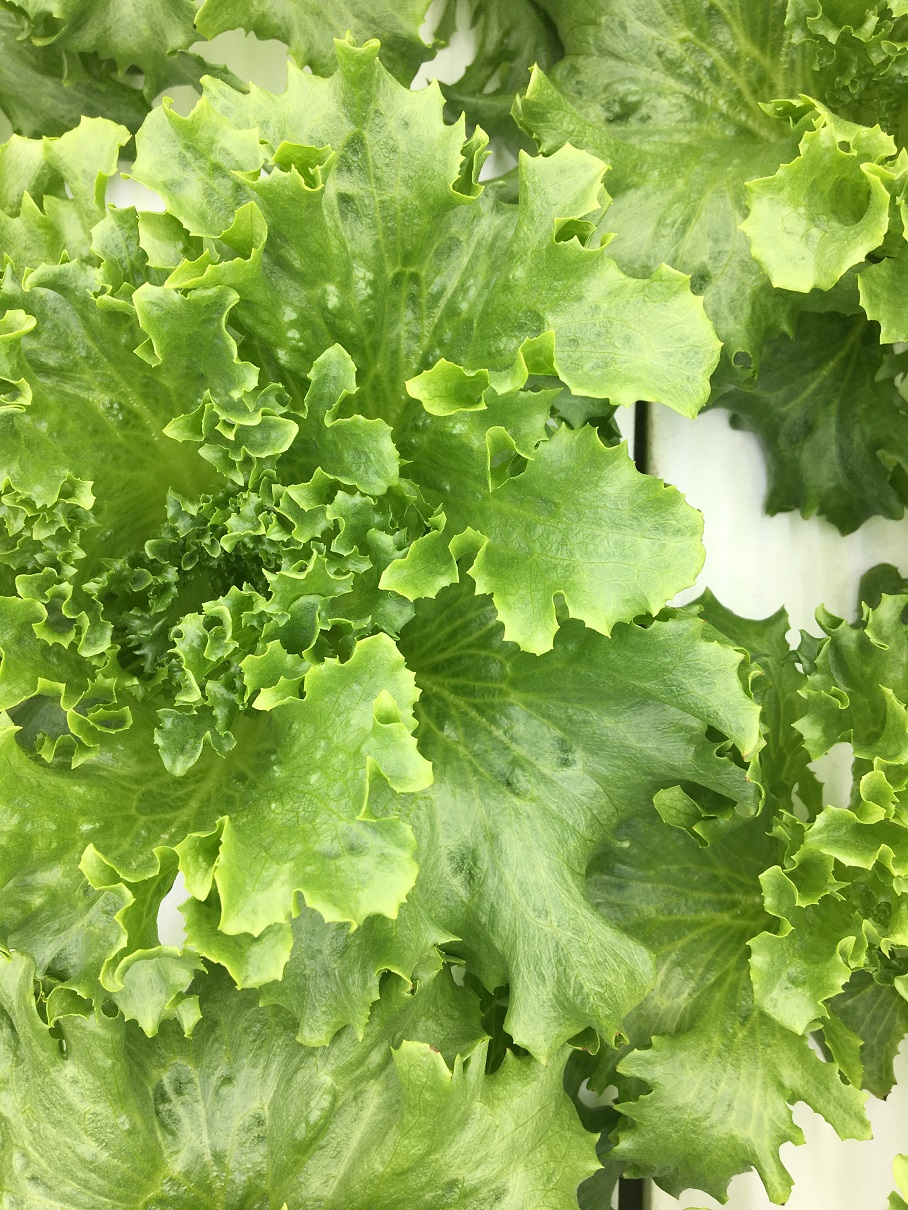tipburn: (421, 1037, 446, 1062), (570, 1039, 595, 1063), (180, 17, 206, 40), (611, 1020, 632, 1045), (876, 1088, 896, 1111), (738, 773, 758, 795), (404, 976, 423, 997), (738, 749, 756, 766), (776, 1197, 793, 1210)
